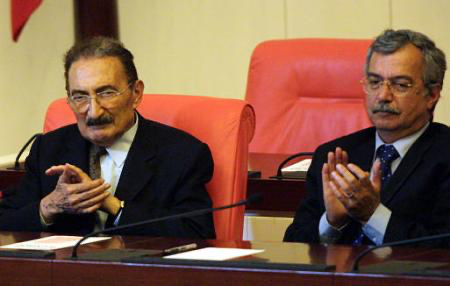Face: (351, 53, 433, 134), (68, 64, 131, 142)
